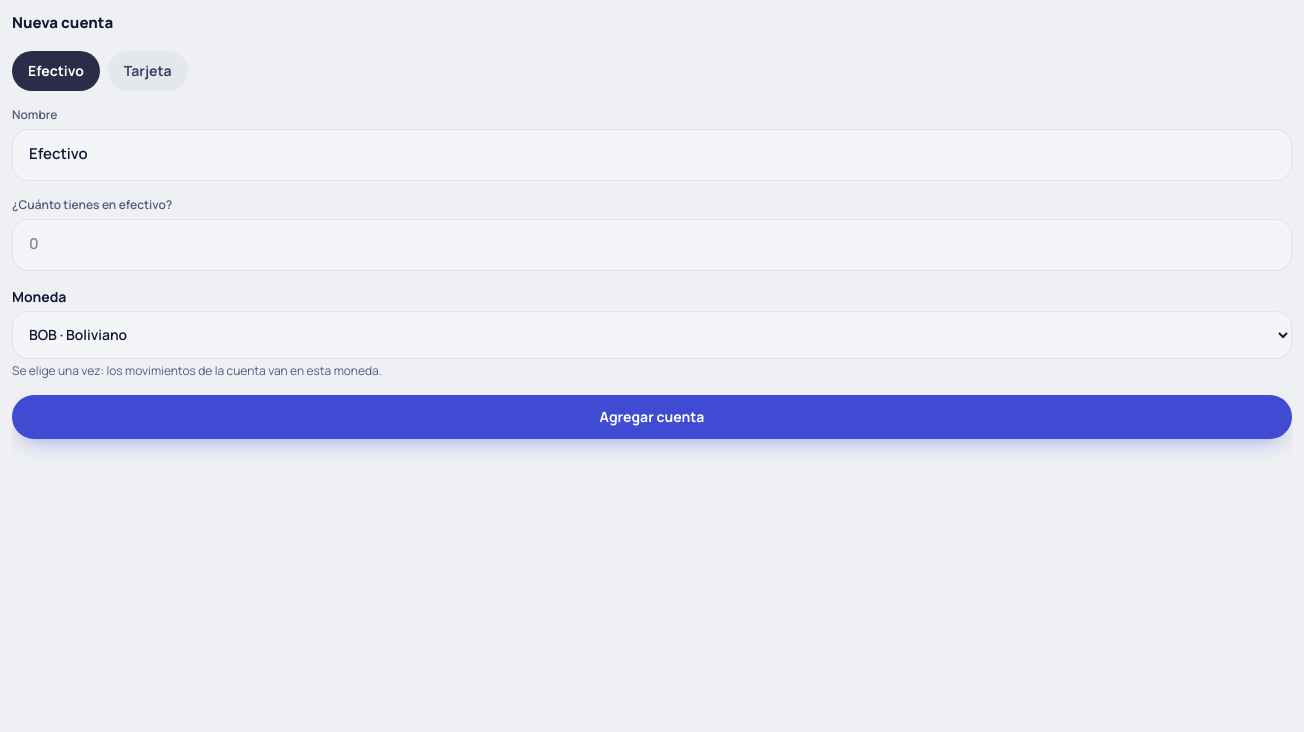
Límites del plan (MM-188) › a new card past the plan shows the limit instead of Crear
The width and height of the screenshot is (1304, 732).
Click the radio button labelled "Tarjeta" at (148, 70), box [108, 50, 188, 90]
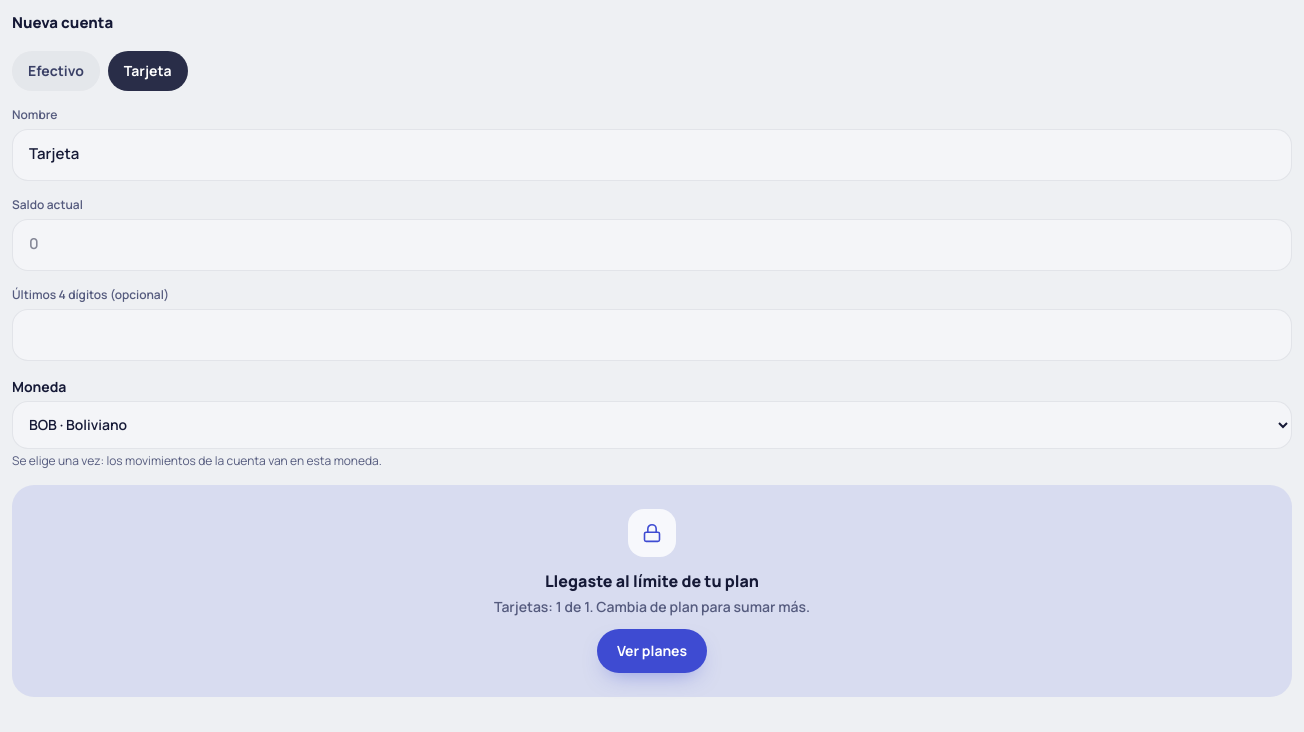
Check: the element with test id "plan-limit-finance.cards" is shown, box [12, 484, 1292, 696]
